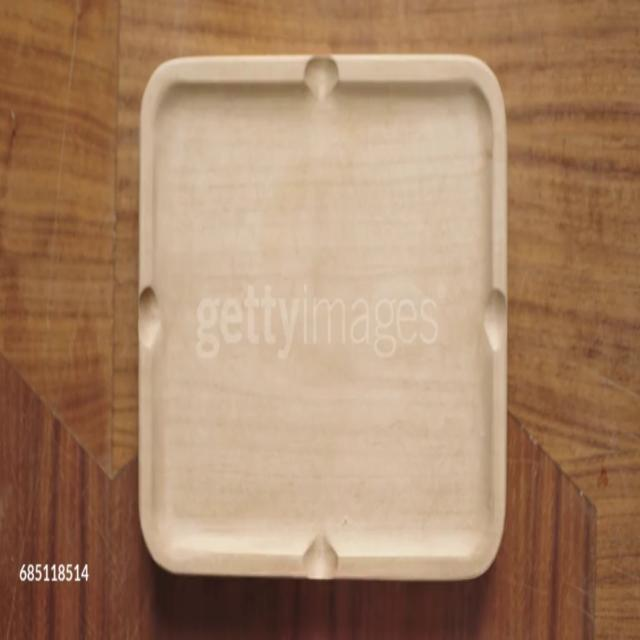tray: (139, 53, 507, 581)
